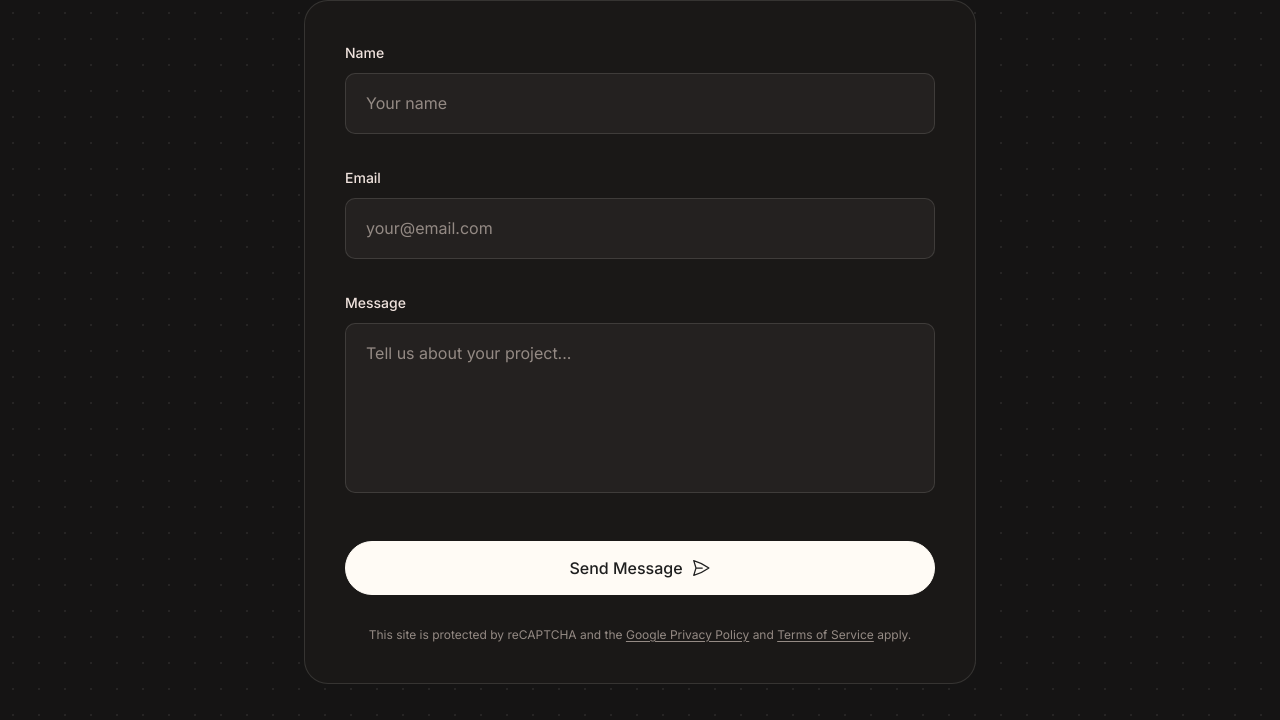
status announcements › announces success inside the live region
Type "Jane" into the field labelled "Name" at (640, 103), box [345,73,935,134]
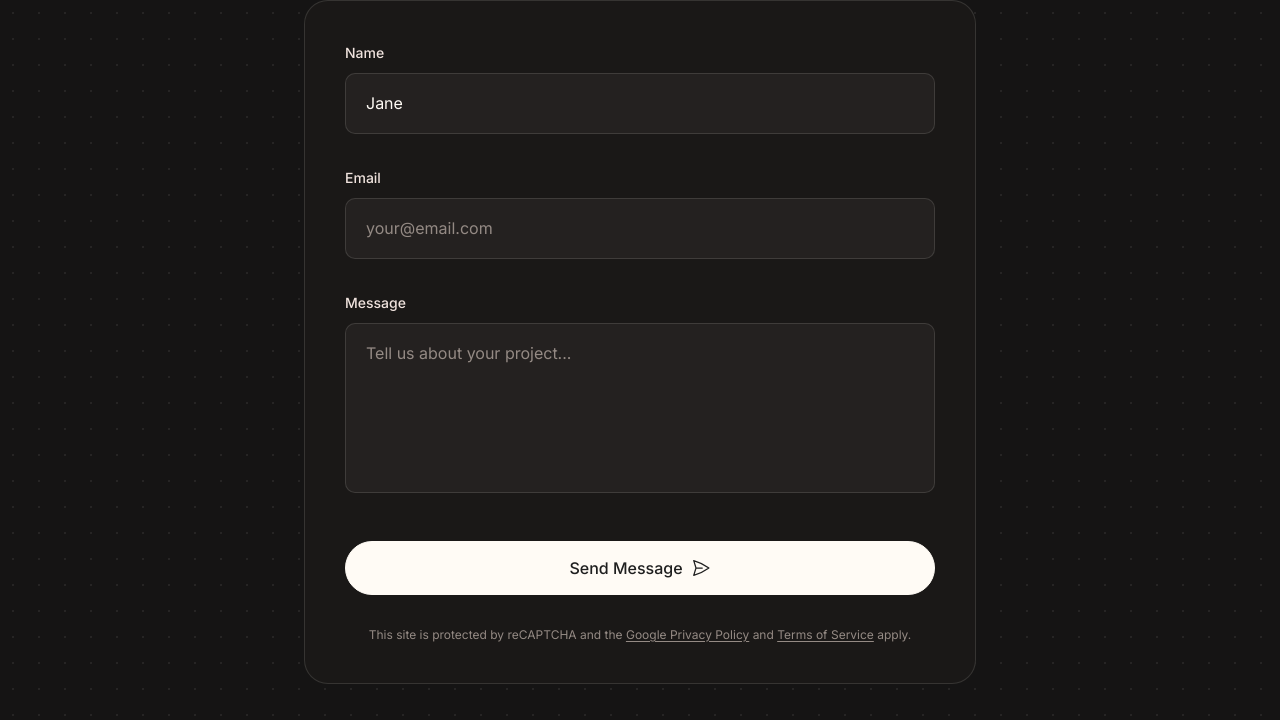
Type "jane@example.com" into the field labelled "Email" at (640, 228), box [345,198,935,259]
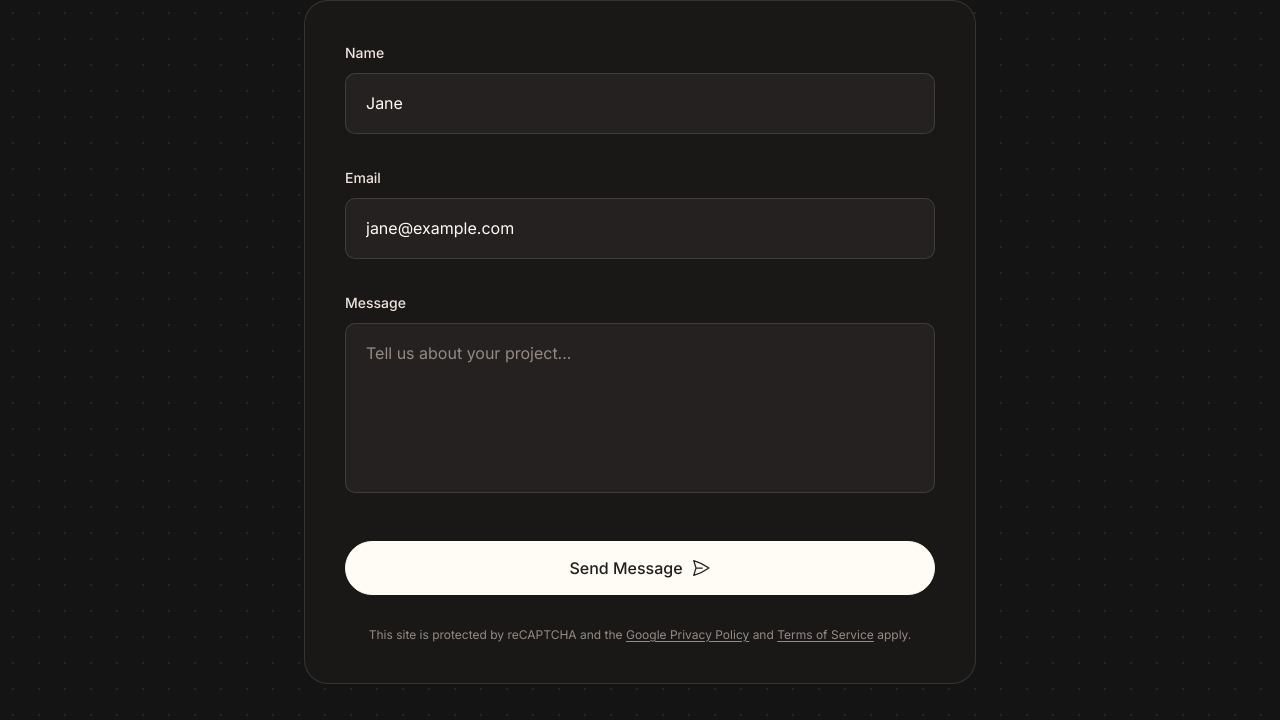
Type "Hello" into the text box labelled "Message" at (640, 408), box [345,323,935,493]
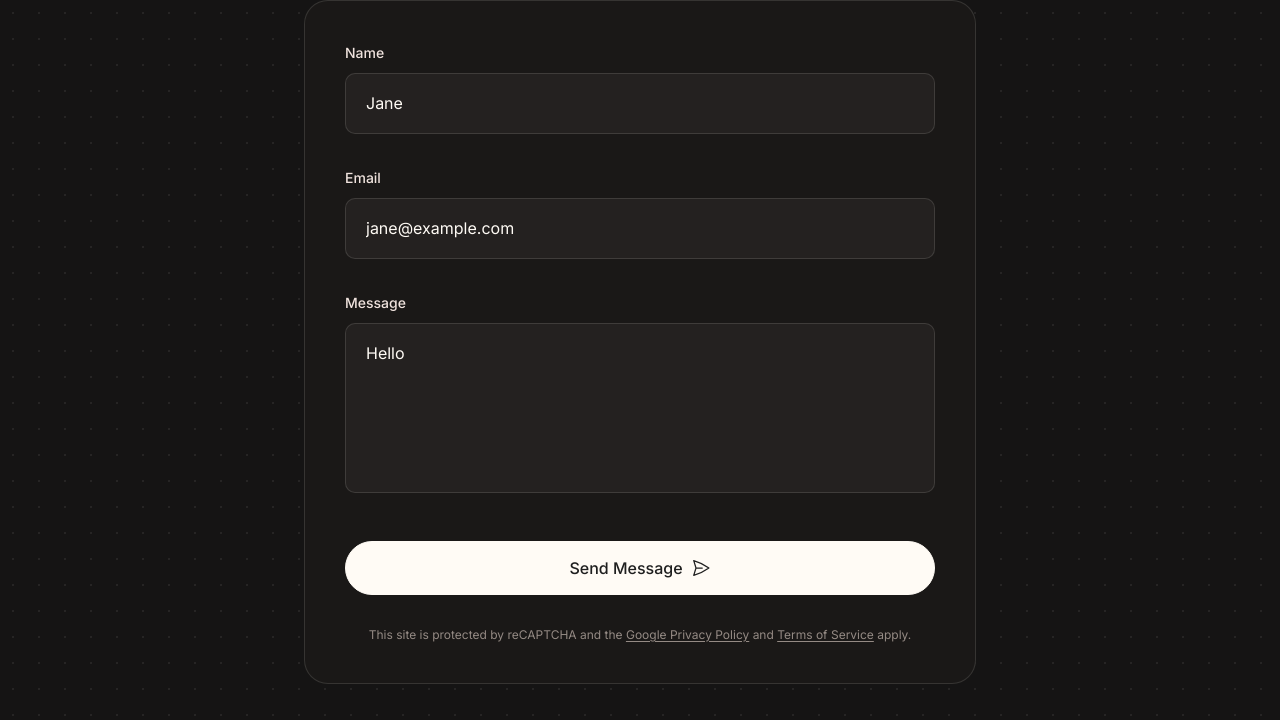
Submit the form from the button "Send Message", box [345,541,935,595]
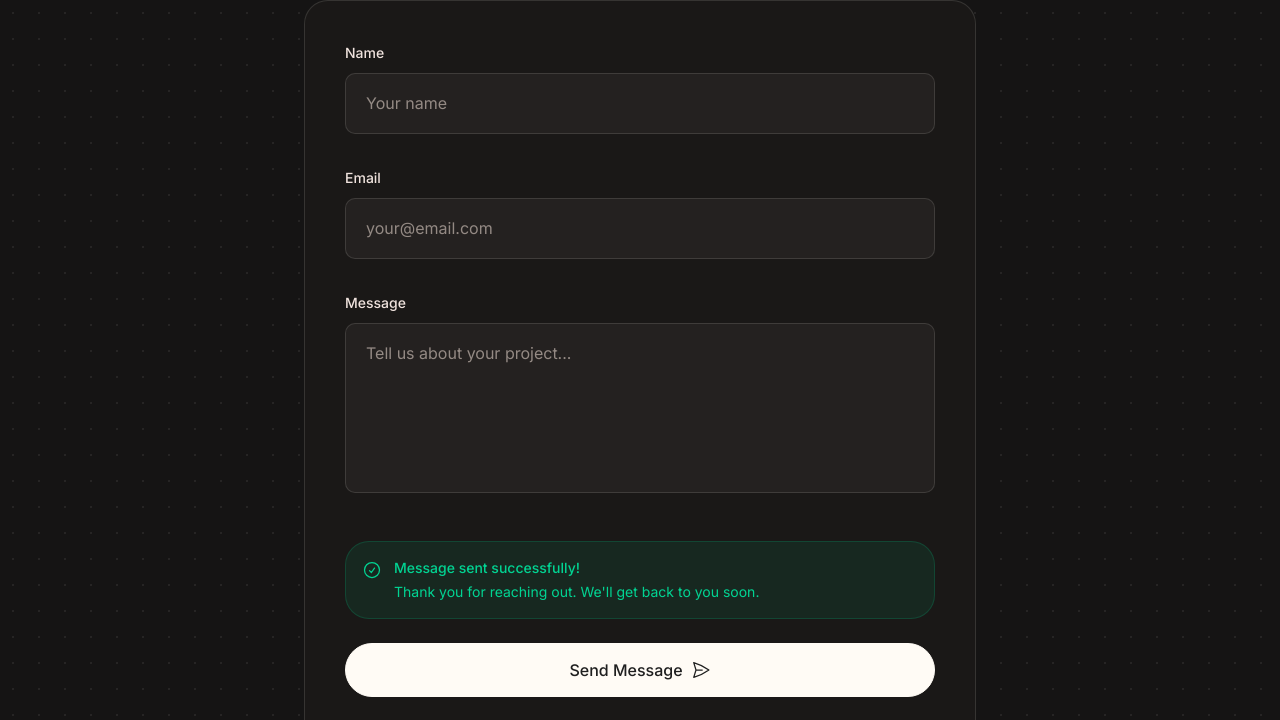
expect the text "Message sent successfully!" is shown: met, box [394,559,580,576]
